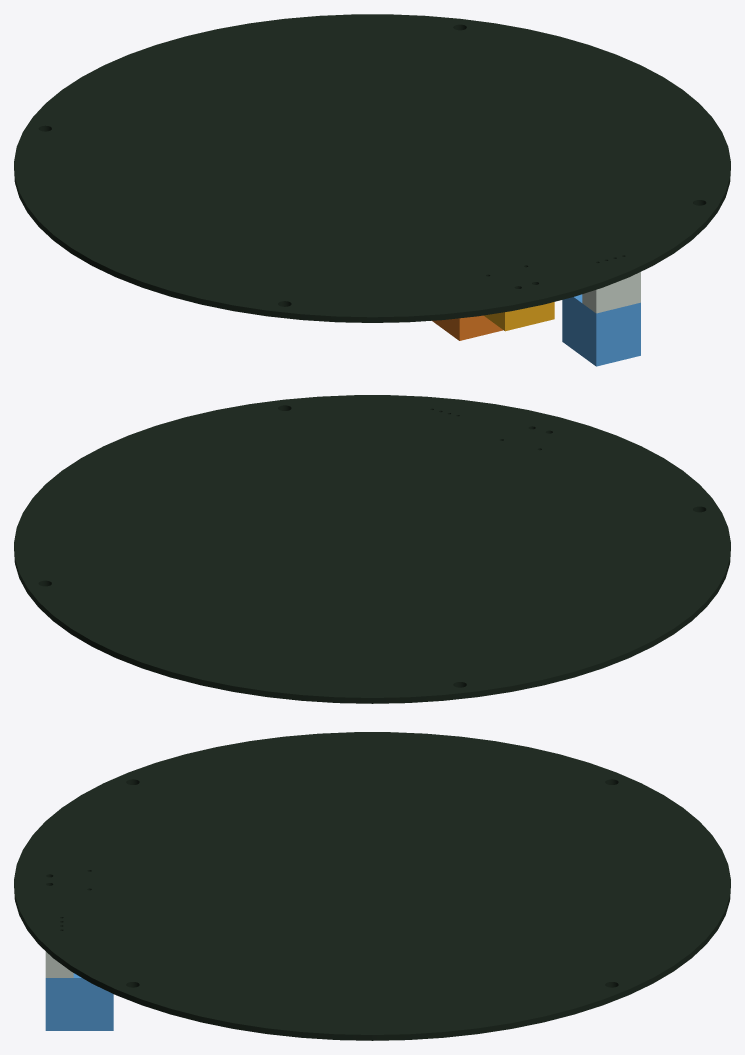
File: connector-space.glb
The picture shows the model from 3 angles, top to bottom: view 1: azimuth 30°, elevation 25°; view 2: azimuth 150°, elevation 25°; view 3: azimuth 270°, elevation 25°; orthographic projection.
Parts seen in each view (by area): view 1: PCB_ENVELOPE_not_routed, JST_WIRE_BEND_ASSUMED, JST_XH_MATED_ENVELOPE_candidate, XT30_MATED_ENVELOPE_candidate, XT30_WIRE_BEND_ASSUMED; view 2: PCB_ENVELOPE_not_routed; view 3: PCB_ENVELOPE_not_routed, JST_WIRE_BEND_ASSUMED.
Part boxes in pixels (x1,y1,x2,y2): PCB_ENVELOPE_not_routed: [14, 14, 730, 322]; JST_WIRE_BEND_ASSUMED: [562, 294, 640, 366]; JST_XH_MATED_ENVELOPE_candidate: [582, 272, 640, 313]; XT30_MATED_ENVELOPE_candidate: [484, 302, 554, 331]; XT30_WIRE_BEND_ASSUMED: [432, 315, 503, 340]; PCB_ENVELOPE_not_routed: [14, 395, 730, 703]; PCB_ENVELOPE_not_routed: [14, 732, 730, 1040]; JST_WIRE_BEND_ASSUMED: [45, 973, 113, 1030].
Bounding box in the file's own units: 0.1799 × 0.0266 × 0.1799.
